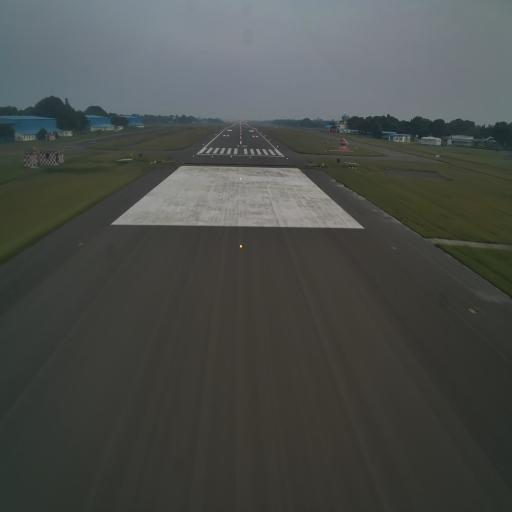off: (467, 302, 478, 320), (391, 240, 398, 254), (76, 240, 84, 249)
on: (239, 242, 244, 250)
